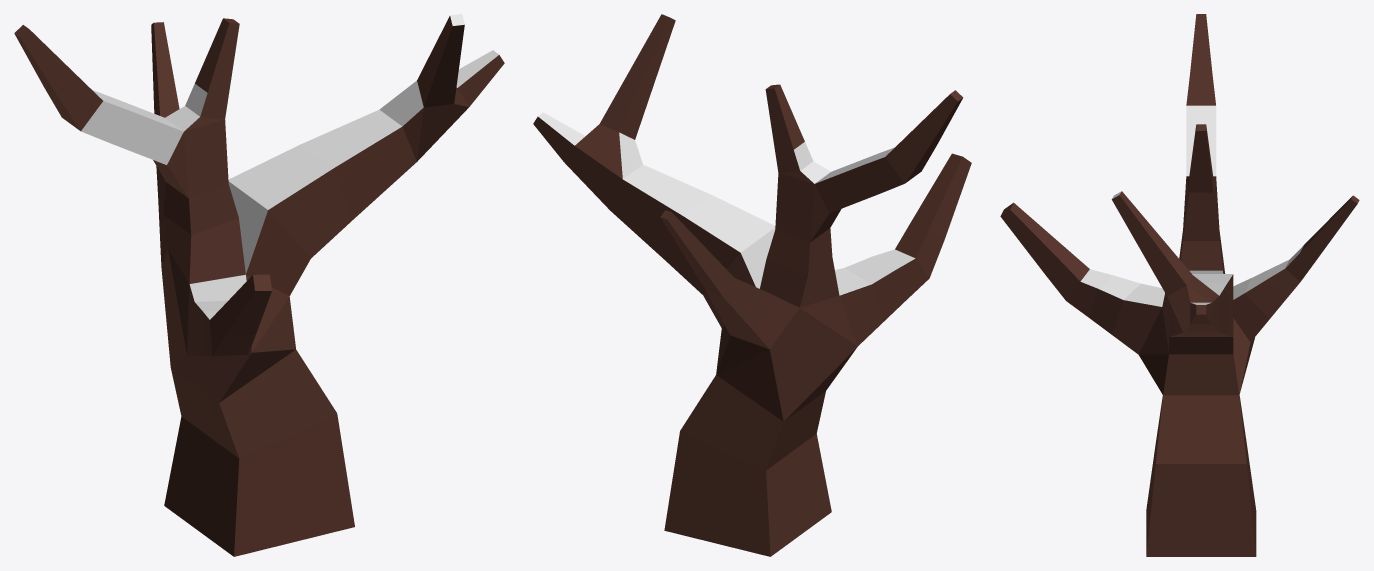
The model's file is Winter_Tree.fbx.
The picture shows the model from 3 angles, left to right: view 1: azimuth 30°, elevation 25°; view 2: azimuth 150°, elevation 25°; view 3: azimuth 270°, elevation 25°; orthographic projection. The views are drawn at different scales.
Visible parts, largest first — view 1: Vert.003; view 2: Vert.003; view 3: Vert.003.
Boxes of the visible parts, x1=… form: Vert.003: x1=14, y1=14, x2=504, y2=556; Vert.003: x1=533, y1=14, x2=971, y2=556; Vert.003: x1=1000, y1=14, x2=1359, y2=556.
Size of the model in its own units: 94.54 by 102 by 77.13.
